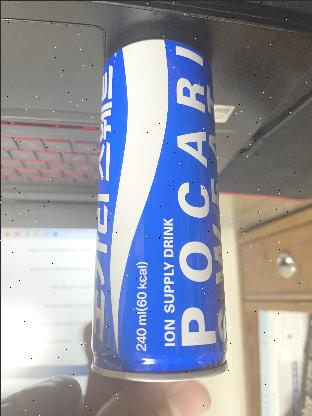Can: (86, 20, 246, 386)
